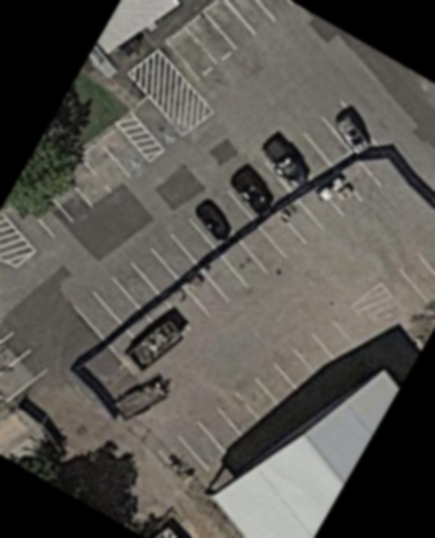parkingspot: (69, 99, 386, 345), (155, 315, 370, 492), (160, 186, 348, 334), (0, 124, 152, 256), (160, 0, 300, 88), (377, 237, 435, 323), (0, 312, 52, 406), (128, 95, 188, 155)
